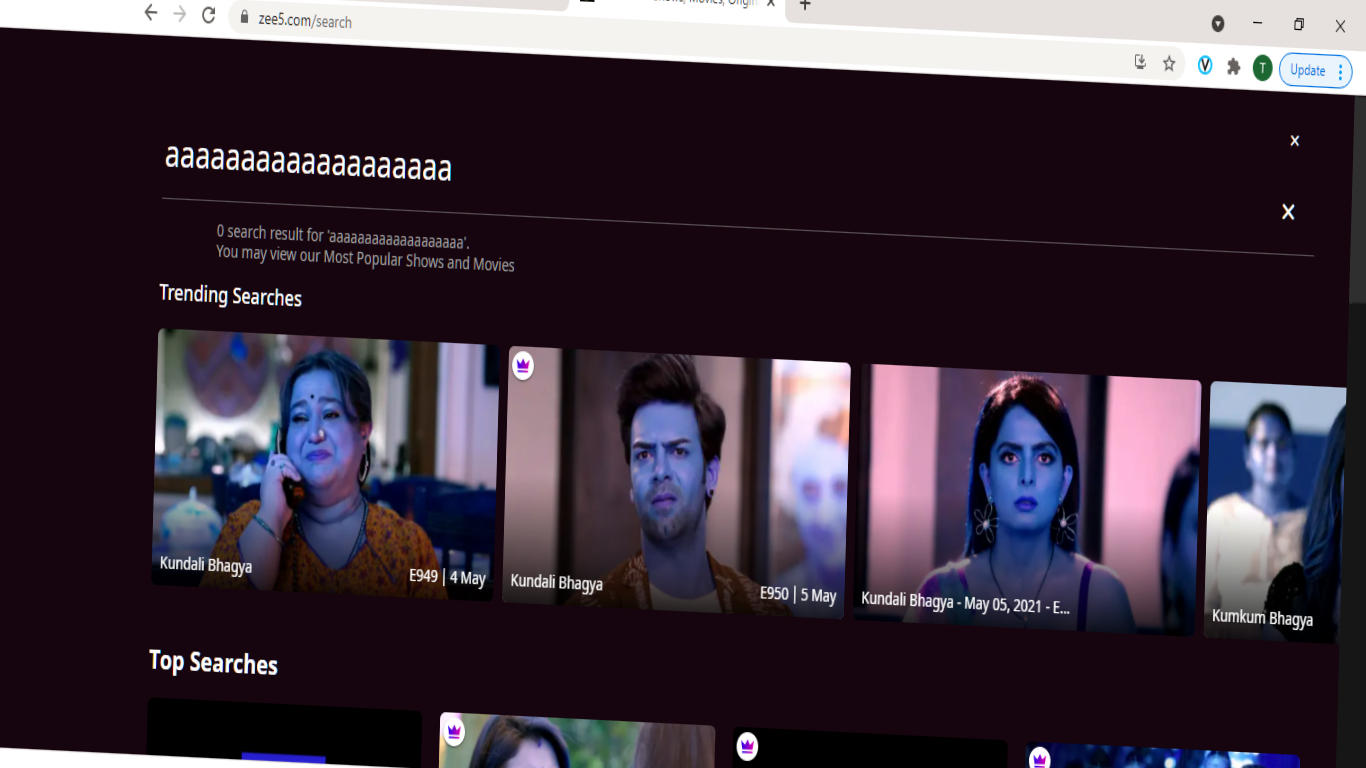noresultsfound: (149, 222, 529, 281)
searchtextbox: (149, 122, 1297, 227)
